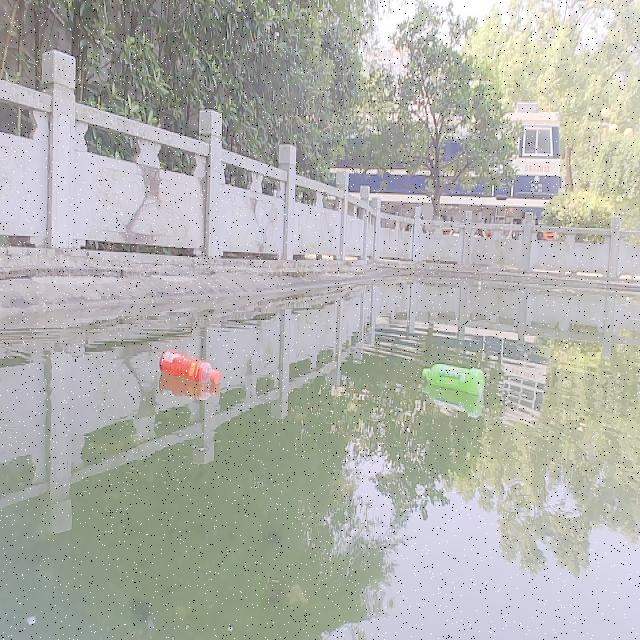bottle: (157, 345, 221, 387), (420, 363, 485, 393)
